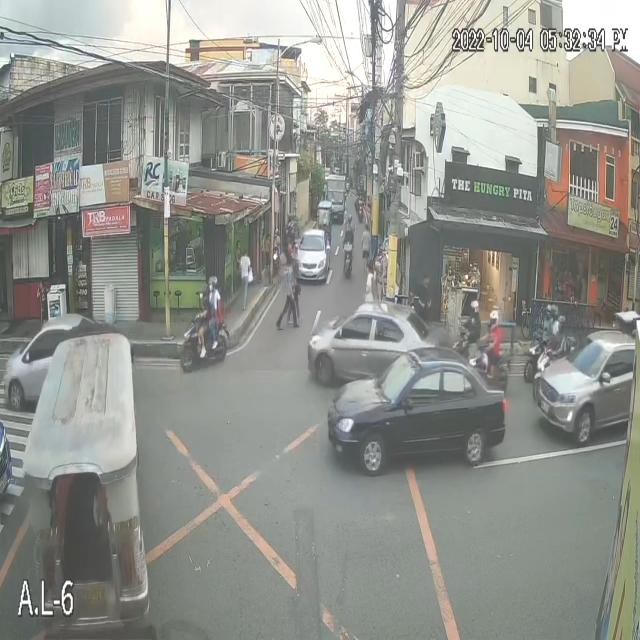Full-Faced: (485, 308, 500, 329), (468, 296, 481, 318), (207, 272, 219, 294), (541, 300, 552, 324), (288, 240, 300, 258), (555, 312, 565, 332), (345, 210, 354, 230), (550, 302, 560, 318)
